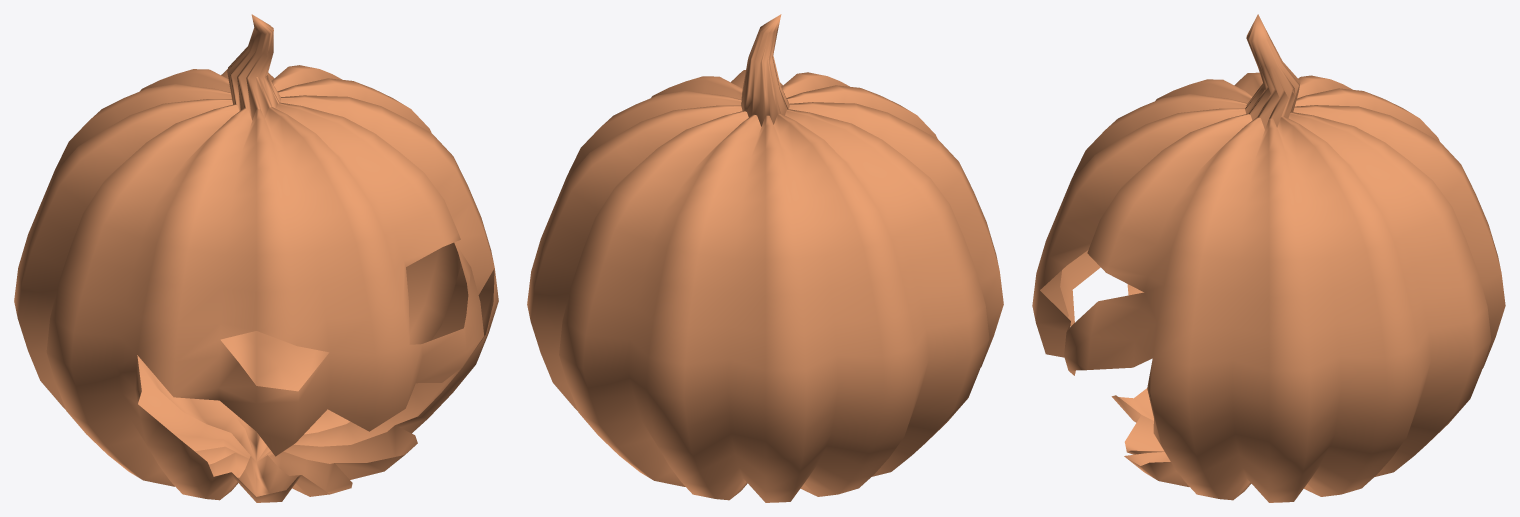
File: SM_JackOLantern.fbx
3 renders of one model, left to right at view 1: azimuth 30°, elevation 25°; view 2: azimuth 150°, elevation 25°; view 3: azimuth 270°, elevation 25°, orthographic. The views are drawn at different scales.
Parts seen in each view (by area): view 1: SM_JackOLantern; view 2: SM_JackOLantern; view 3: SM_JackOLantern.
Part boxes in pixels (left/top/right/bottom): SM_JackOLantern: left=14, top=14, right=498, bottom=502; SM_JackOLantern: left=527, top=14, right=1003, bottom=502; SM_JackOLantern: left=1032, top=14, right=1505, bottom=502.
Bounding box in the file's own units: 54.44 × 56.37 × 54.44.
